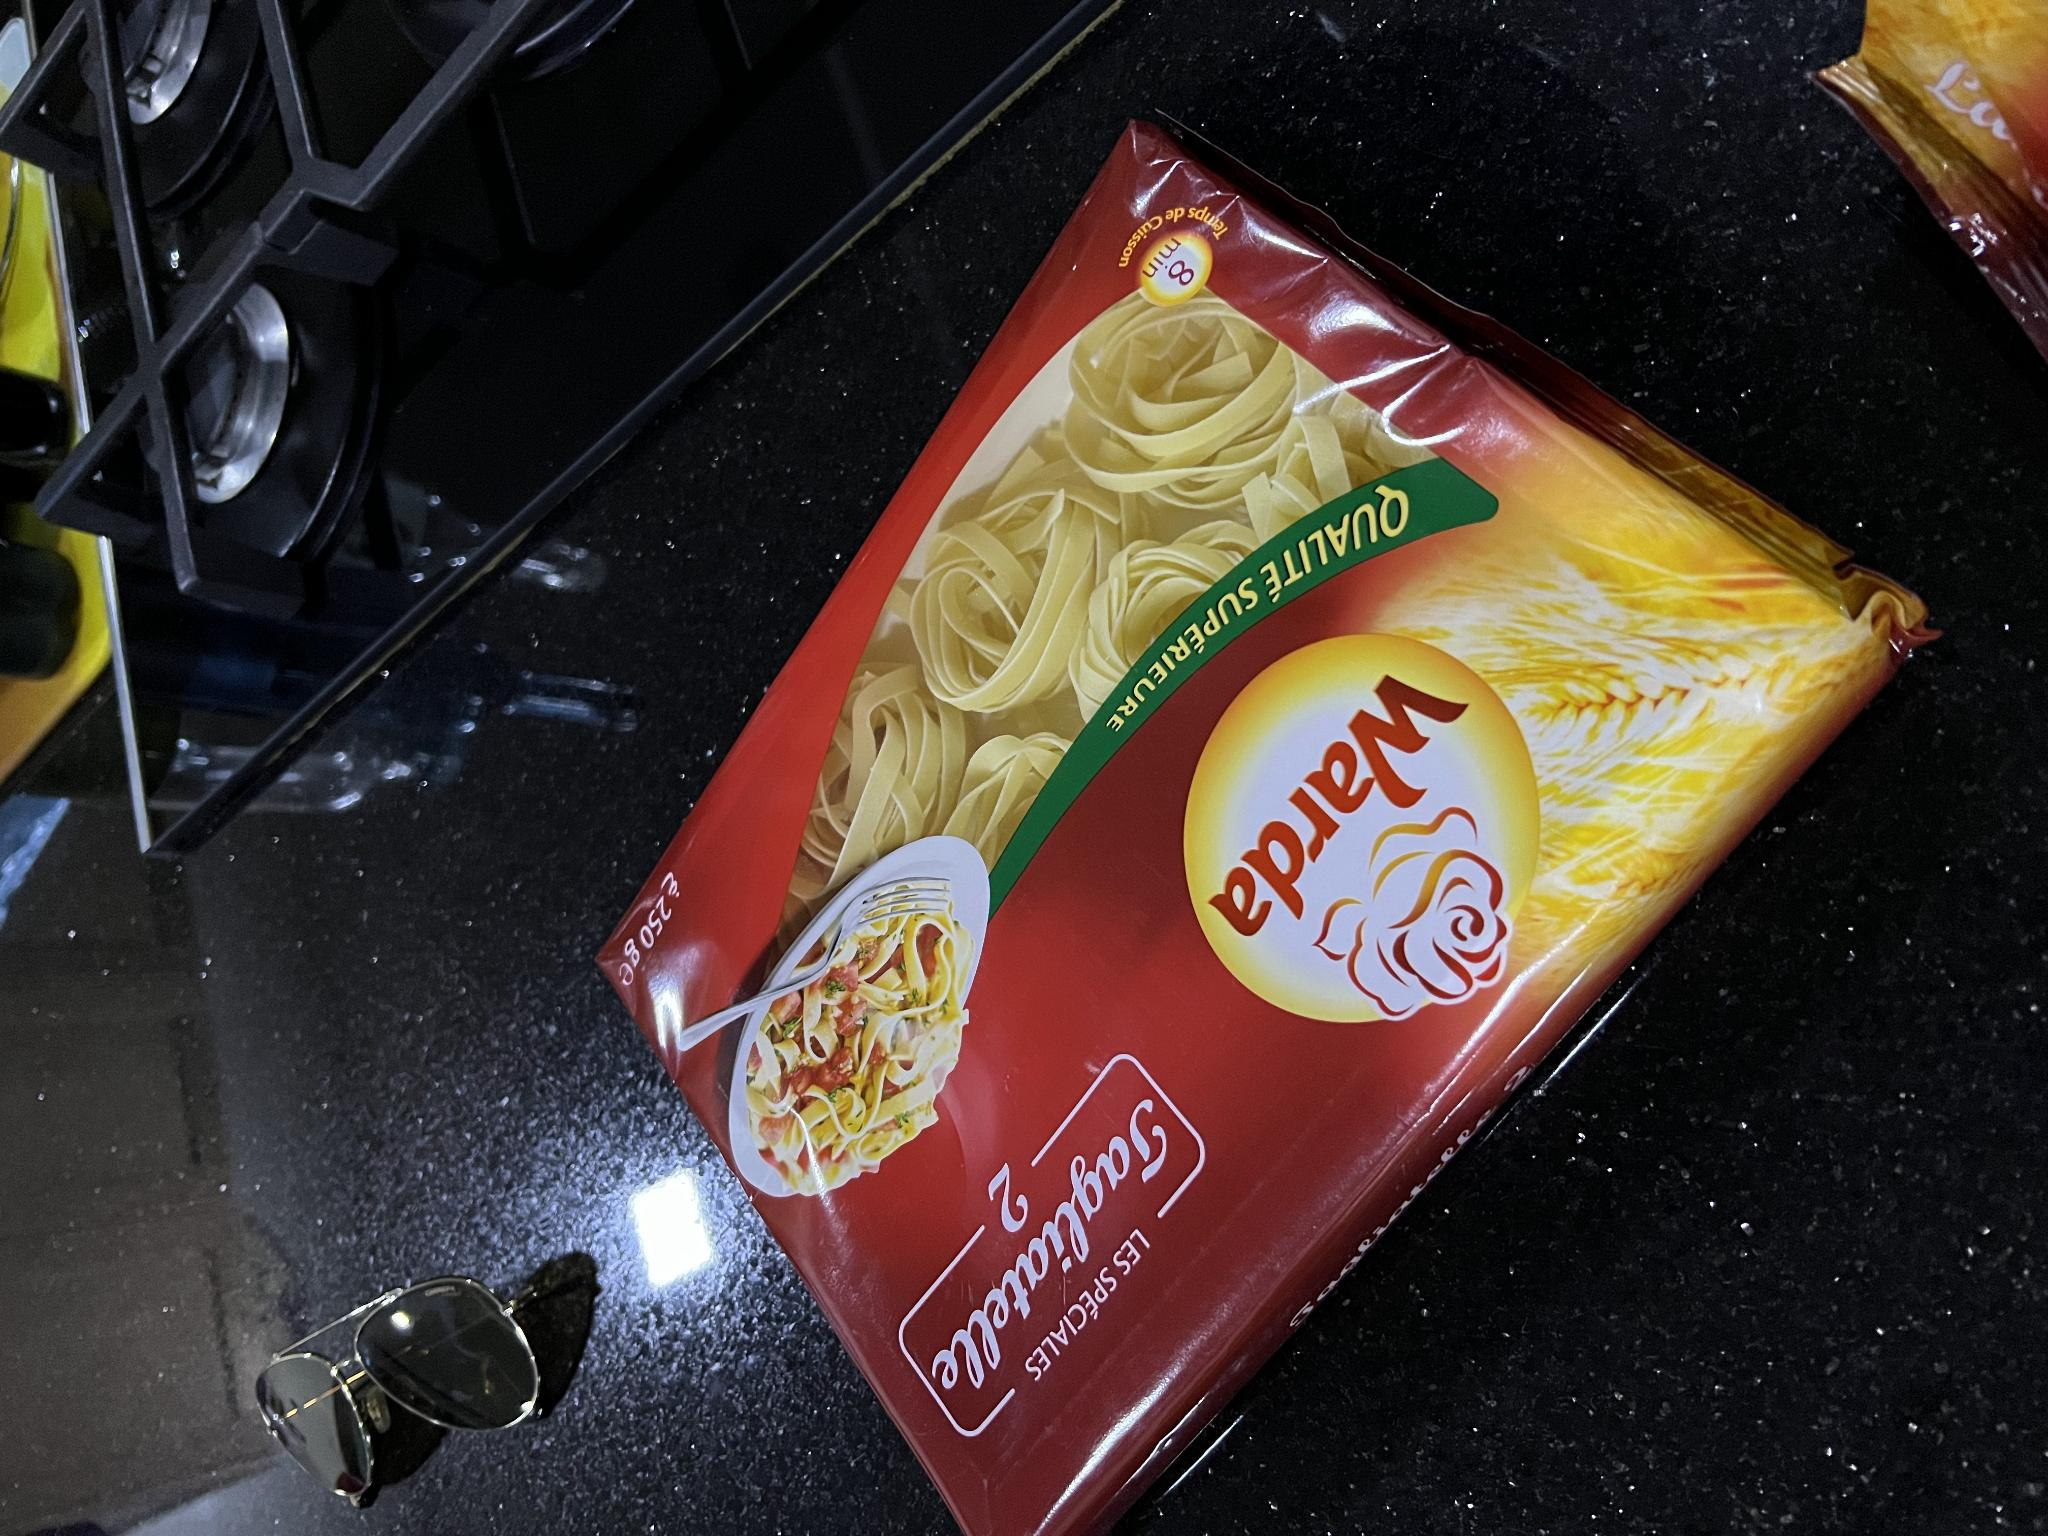Tagliatelle: (590, 118, 1940, 1536)
